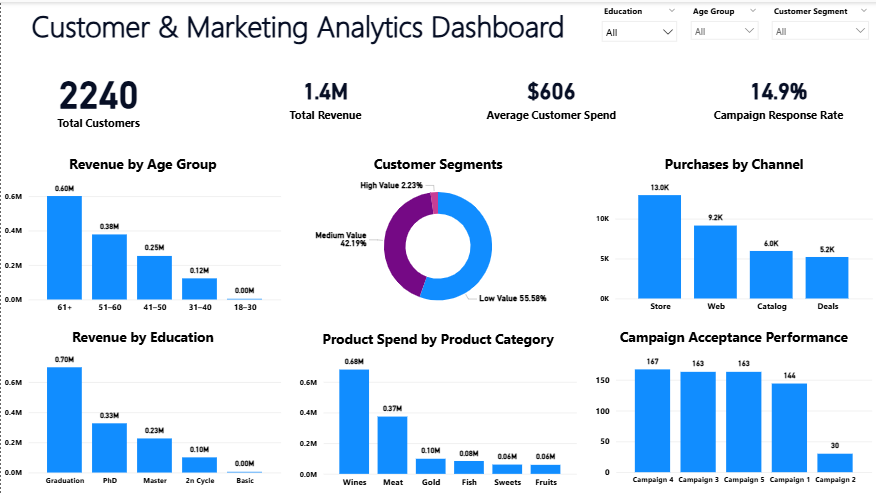

What the dashboard file says about the page in this screenshot:
{"tool":"powerbi","page":{"name":"Customer & Marketing Overview","canvas":[1280,720],"ordinal":0},"visuals":[{"type":"card","fields":{"Values":["CustomerData.Total Customers"]},"box":[0,83.4,285.4,111.2],"z":0},{"type":"card","fields":{"Values":["CustomerData.Total Revenue"]},"box":[332,83.4,285,111.2],"z":1000},{"type":"card","fields":{"Values":["CustomerData.Average Customer Spend"]},"box":[663.5,83.4,285,111.2],"z":2000},{"type":"card","fields":{"Values":["CustomerData.Campaign Response Rate"]},"box":[994.6,83.4,285.4,111.2],"z":3000},{"type":"donutChart","title":" Customer Segments","fields":{"Category":["CustomerData.Customer Segment"],"Y":["CustomerData.Total Customers"]},"box":[432.1,222.4,415.6,242.9],"z":3001},{"type":"clusteredColumnChart","title":"Revenue by Education","fields":{"Category":["CustomerData.Education"],"Y":["CustomerData.Total Revenue"]},"box":[0,475.6,415,242],"z":3002},{"type":"clusteredColumnChart","title":"Revenue by Age Group","fields":{"Category":["CustomerData.Age Group"],"Y":["CustomerData.Total Revenue"]},"box":[0,222.4,415,242.9],"z":3003},{"type":"clusteredColumnChart","title":"Purchases by Channel","fields":{"Category":["TablePurchaseChannels.Channel"],"Y":["TablePurchaseChannels.Channel Purchases"]},"box":[864.4,222.4,415.6,241.5],"z":3004},{"type":"clusteredColumnChart","title":"Campaign Acceptance Performance","fields":{"Category":["Campaigns.Campaign"],"Y":["Campaigns.Campaign Acceptance Count"]},"box":[864.9,475.6,415,241.5],"z":3005},{"type":"slicer","fields":{"Values":["CustomerData.Education"]},"box":[869.3,0,130.2,61.5],"z":3006},{"type":"slicer","fields":{"Values":["CustomerData.Age Group"]},"box":[999.5,0,118.5,61.5],"z":3007},{"type":"slicer","fields":{"Values":["CustomerData.Customer Segment"]},"box":[1118,0,162.4,61],"z":3008},{"type":"clusteredColumnChart","fields":{"Category":["ProductCategories.Product Category"],"Y":["ProductCategories.Product Spend"]},"box":[432.1,478.5,415.6,242],"z":3009},{"type":"textbox","box":[0,0,869.3,83.4],"z":3010}]}

Visuals, with their boxes in screenshot pixels (x1, y1, x2, y2), scaled from the page's 1280x720 canvas onto the 876x494 screenshot:
card - CustomerData.Total Customers: x1=0 y1=57 x2=195 y2=134
card - CustomerData.Total Revenue: x1=227 y1=57 x2=422 y2=134
card - CustomerData.Average Customer Spend: x1=454 y1=57 x2=649 y2=134
card - CustomerData.Campaign Response Rate: x1=681 y1=57 x2=875 y2=134
" Customer Segments" donutChart: x1=296 y1=153 x2=580 y2=319
"Revenue by Education" clusteredColumnChart: x1=0 y1=326 x2=284 y2=492
"Revenue by Age Group" clusteredColumnChart: x1=0 y1=153 x2=284 y2=319
"Purchases by Channel" clusteredColumnChart: x1=592 y1=153 x2=875 y2=318
"Campaign Acceptance Performance" clusteredColumnChart: x1=592 y1=326 x2=875 y2=492
slicer - CustomerData.Education: x1=595 y1=0 x2=684 y2=42
slicer - CustomerData.Age Group: x1=684 y1=0 x2=765 y2=42
slicer - CustomerData.Customer Segment: x1=765 y1=0 x2=875 y2=42
clusteredColumnChart - ProductCategories.Product Category x ProductCategories.Product Spend: x1=296 y1=328 x2=580 y2=493
textbox: x1=0 y1=0 x2=595 y2=57
